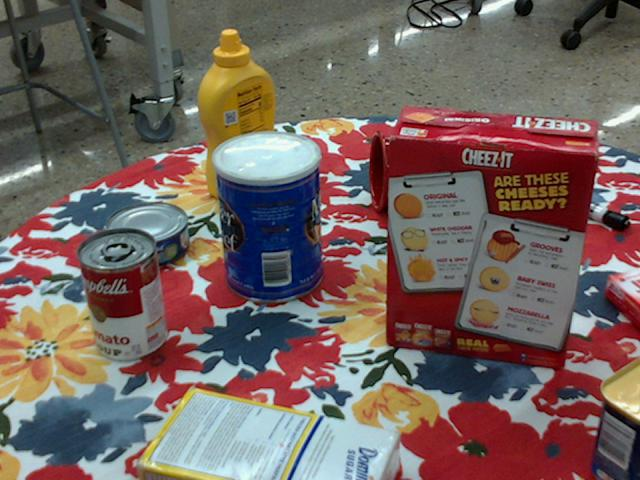cracker_box: (384, 107, 599, 371)
gelatin_box: (603, 268, 639, 329)
large_marker: (531, 180, 629, 229)
master_chef_can: (212, 130, 321, 303)
mug: (367, 132, 453, 214)
mustard_bottle: (199, 31, 282, 203)
potted_meat_can: (592, 356, 639, 479)
sugar_box: (135, 389, 401, 479)
tomato_soup_can: (78, 227, 167, 361)
tuna_fish_can: (107, 201, 190, 266)
